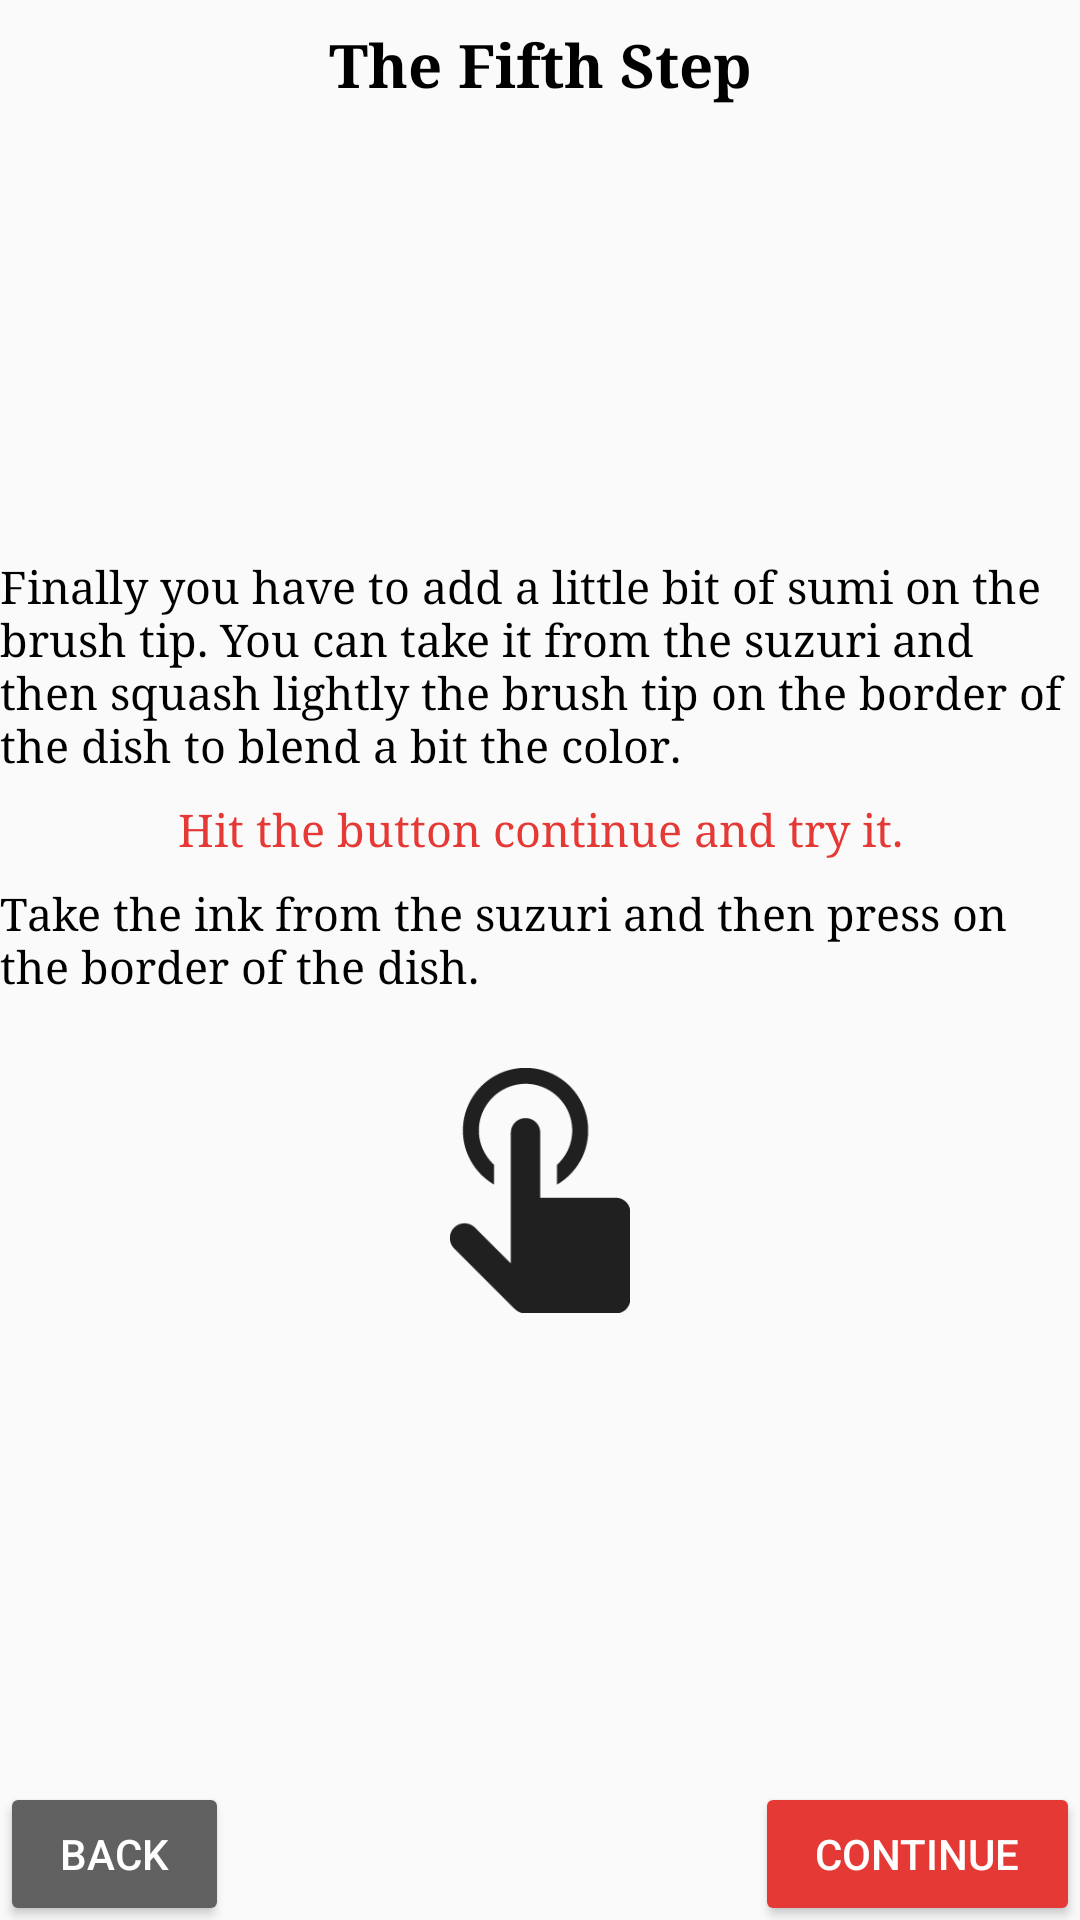

Icon bounding boxes for this 1080w x 1920h phone screenshot, format (x1,y1,x2,y2):
tap: (450,1068,630,1313)
